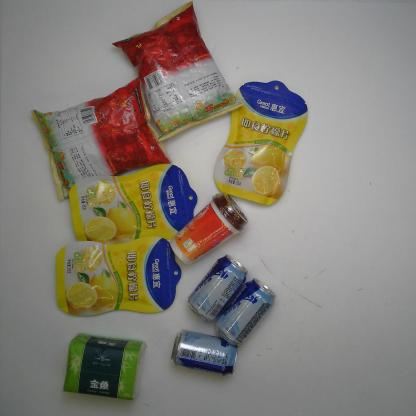Alcohol: (186, 252, 250, 324), (213, 276, 277, 348), (169, 327, 240, 378)
Dried Fruit: (212, 78, 309, 209), (66, 162, 200, 249), (53, 235, 183, 318)
Instant Drink: (168, 188, 250, 266)
Puffed Food: (110, 0, 250, 145), (27, 73, 174, 202)
Tissue: (61, 330, 148, 402)
